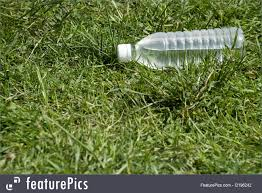plastic_bottle: (114, 24, 248, 77)
